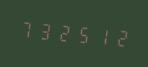five: (72, 19, 89, 48)
one: (90, 21, 107, 49)
seven: (17, 15, 34, 43)
three: (35, 16, 52, 45)
two: (54, 18, 71, 46), (108, 23, 125, 51)
